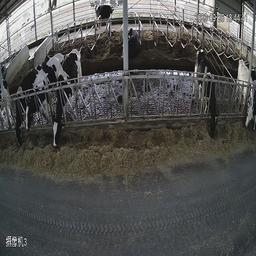cow: (53, 51, 84, 148), (25, 43, 54, 130), (194, 46, 220, 132), (236, 55, 255, 124), (14, 74, 26, 148), (94, 1, 117, 32), (127, 20, 142, 55)
